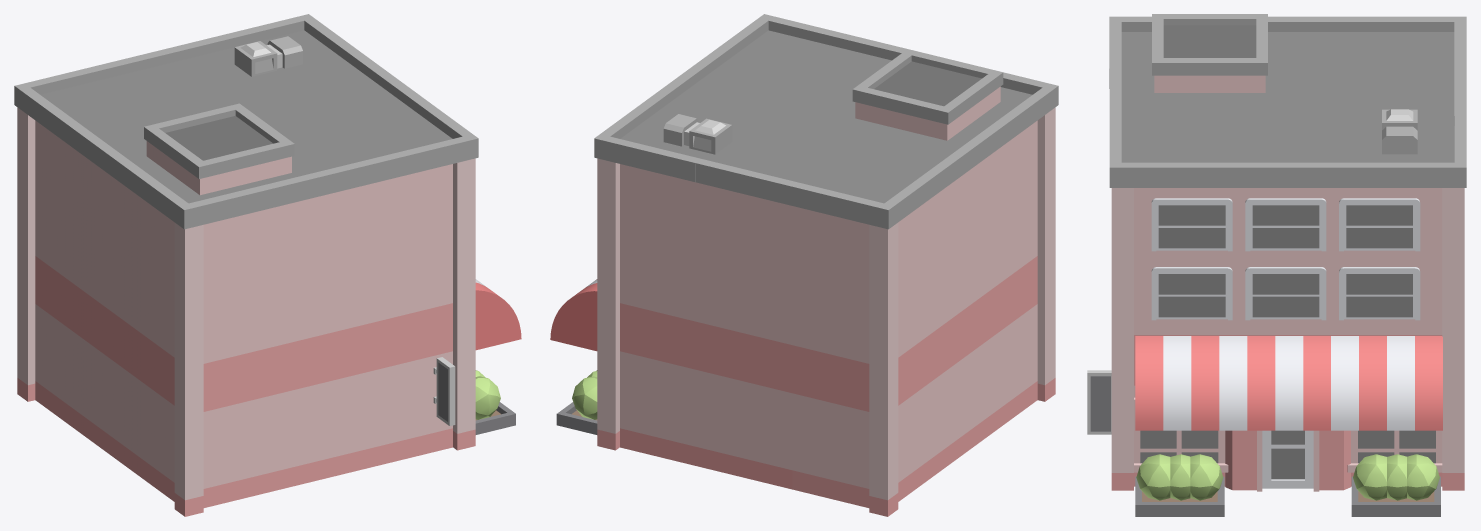
File: flowerBuilding.fbx
3 renders of one model, left to right at view 1: azimuth 30°, elevation 25°; view 2: azimuth 150°, elevation 25°; view 3: azimuth 270°, elevation 25°, orthographic. The views are drawn at different scales.
Visible parts, largest first — view 1: polySurface981; view 2: polySurface981; view 3: polySurface981.
Boxes of the visible parts, bbox=[...] form: polySurface981: bbox=[14, 14, 521, 516]; polySurface981: bbox=[550, 14, 1058, 516]; polySurface981: bbox=[1087, 14, 1466, 516].
Size of the model in its own units: 589 by 527 by 527.
